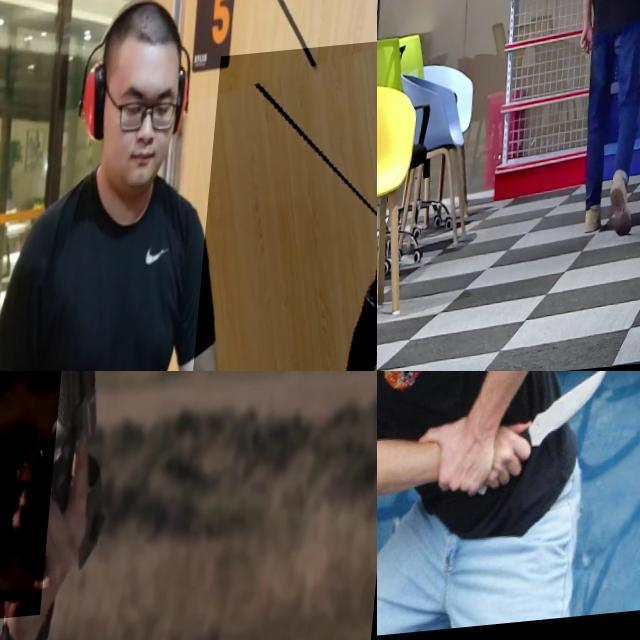-: (377, 371, 503, 520), (500, 371, 615, 499), (513, 371, 637, 446), (377, 390, 438, 541)
gun-knife-thesis - v11 Yolov5 augmented: (186, 38, 377, 371), (0, 371, 145, 633), (0, 371, 114, 636)
